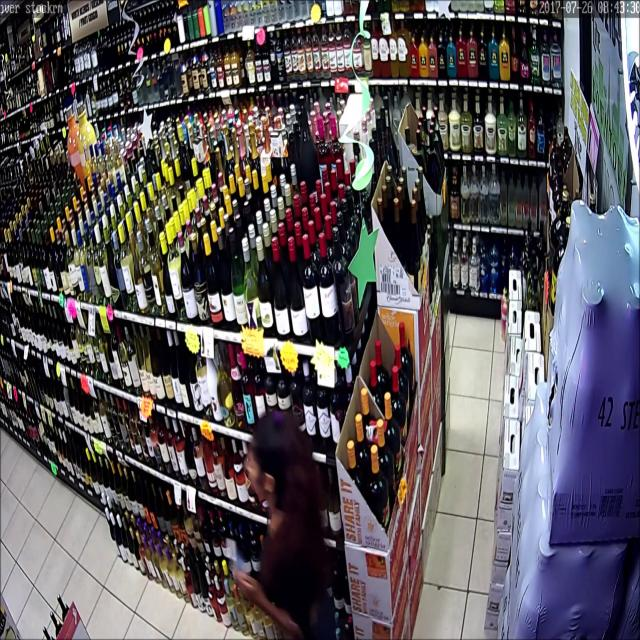normal: (224, 354, 334, 640)
